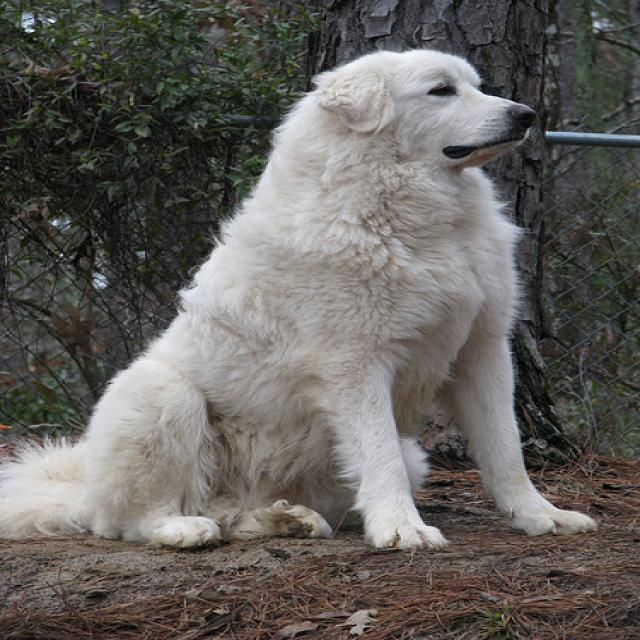dog-great_pyrenees: (2, 31, 608, 568)
